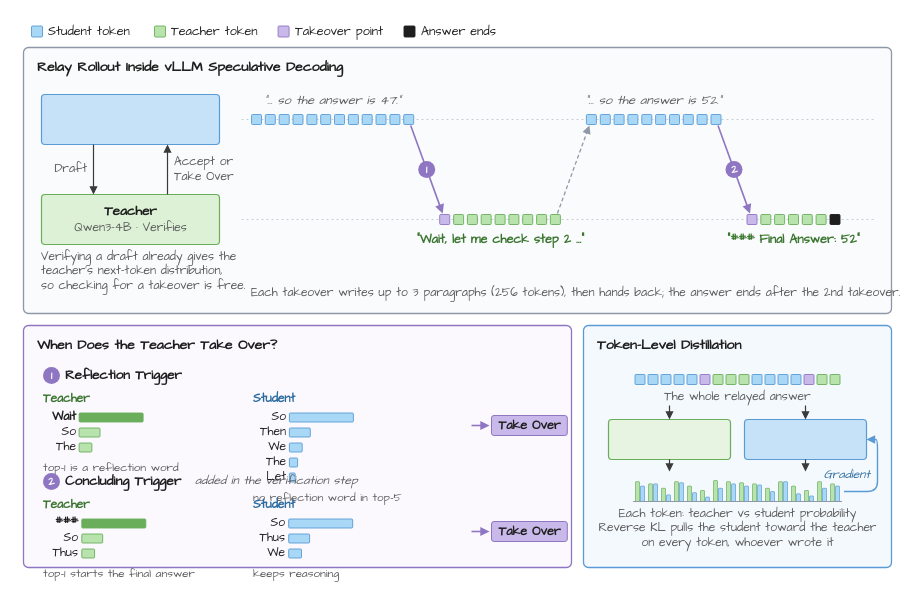
The diagram is 917 pixels wide and 600 high, and some of its shapes have lost their labels. Here are the shapes that lost their labels. From the top down, the box of each, then its label:
(40, 93, 220, 145): Student Qwen3-1.7B · Drafts
(607, 418, 731, 460): Teacher Scorer separate GPU
(743, 418, 867, 460): Student being trained
